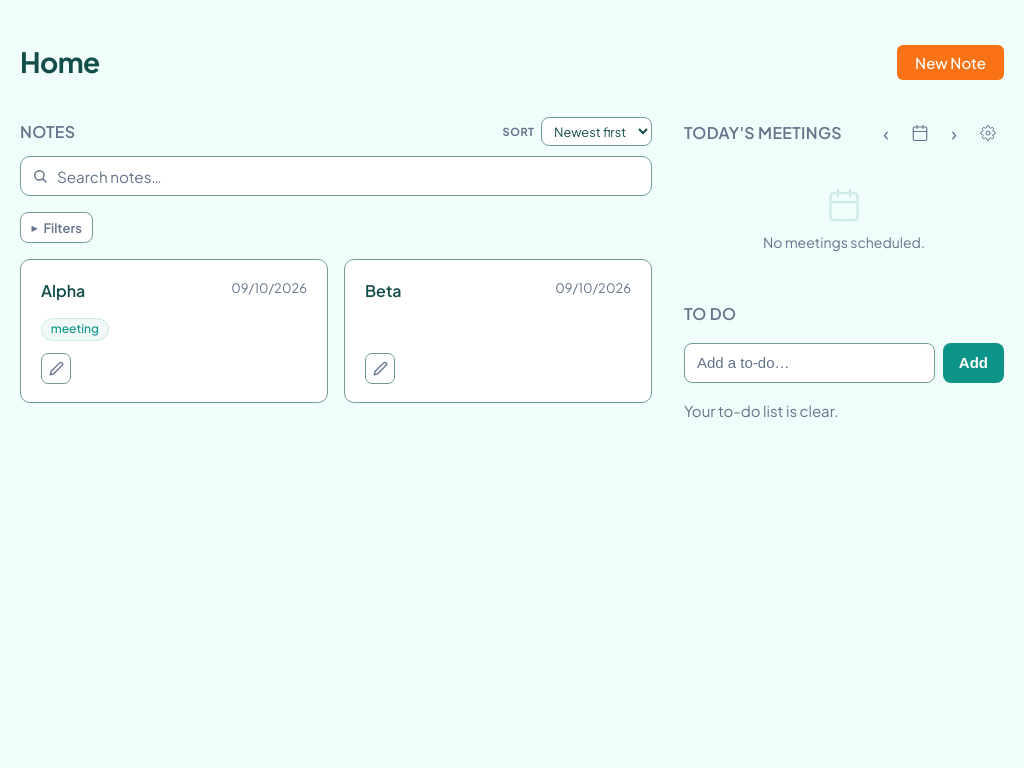
Test: TagFilter — filtering cards via ListView › clear button restores all cards after filtering
The image size is (1024, 768).
// Home filters default to collapsed (CHANGE-6) — expand first.
Step 1. Click the button "▸ Filters" → click(57, 228), box [20,212,93,243]
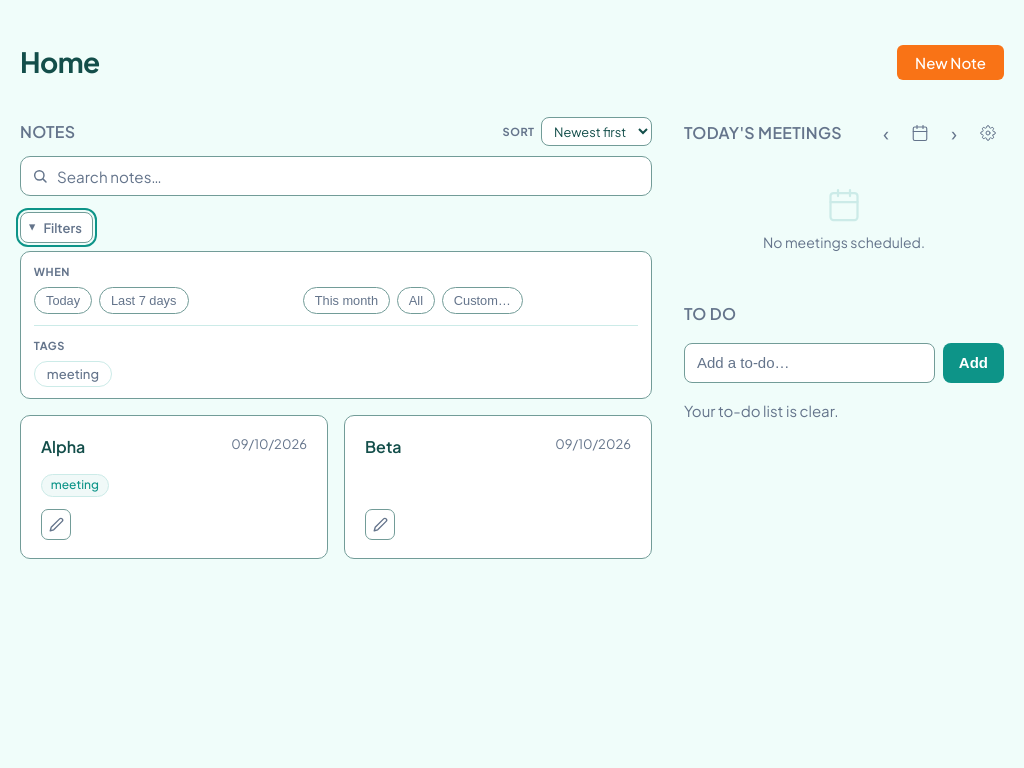
Step 2. Click the button with test id "tag-filter-pill-meeting" → click(73, 374), box [34,361,112,387]
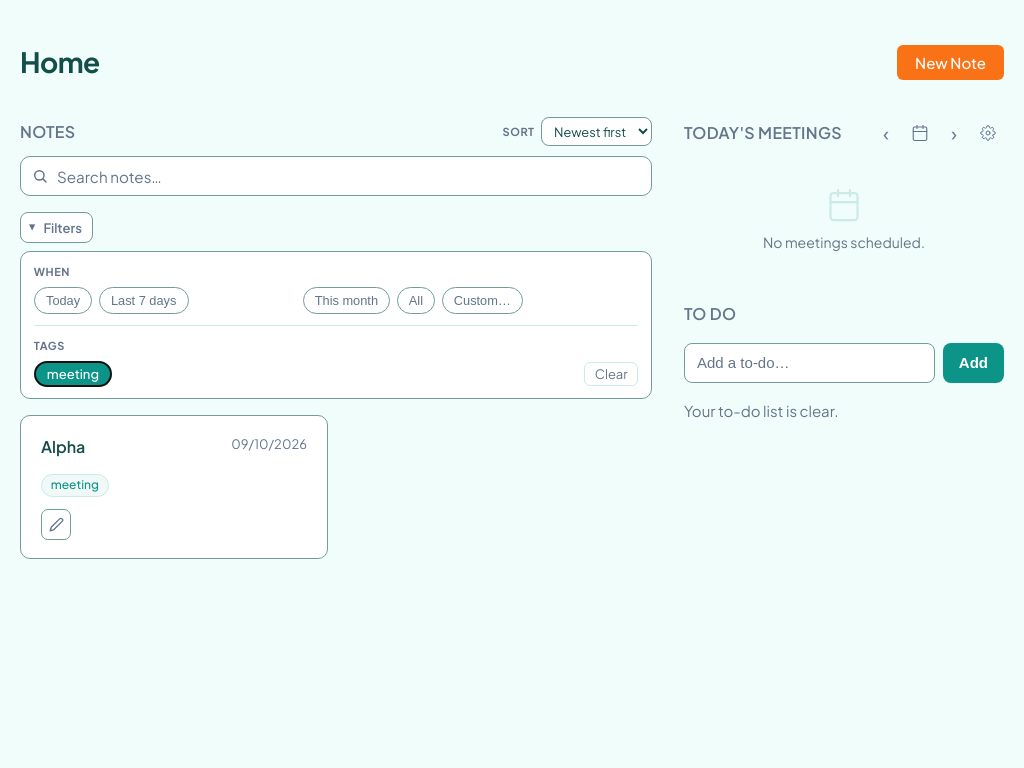
Result: the heading "Beta" is gone
Step 3. Click the button with test id "tag-filter-clear" → click(611, 374), box [584,362,638,386]
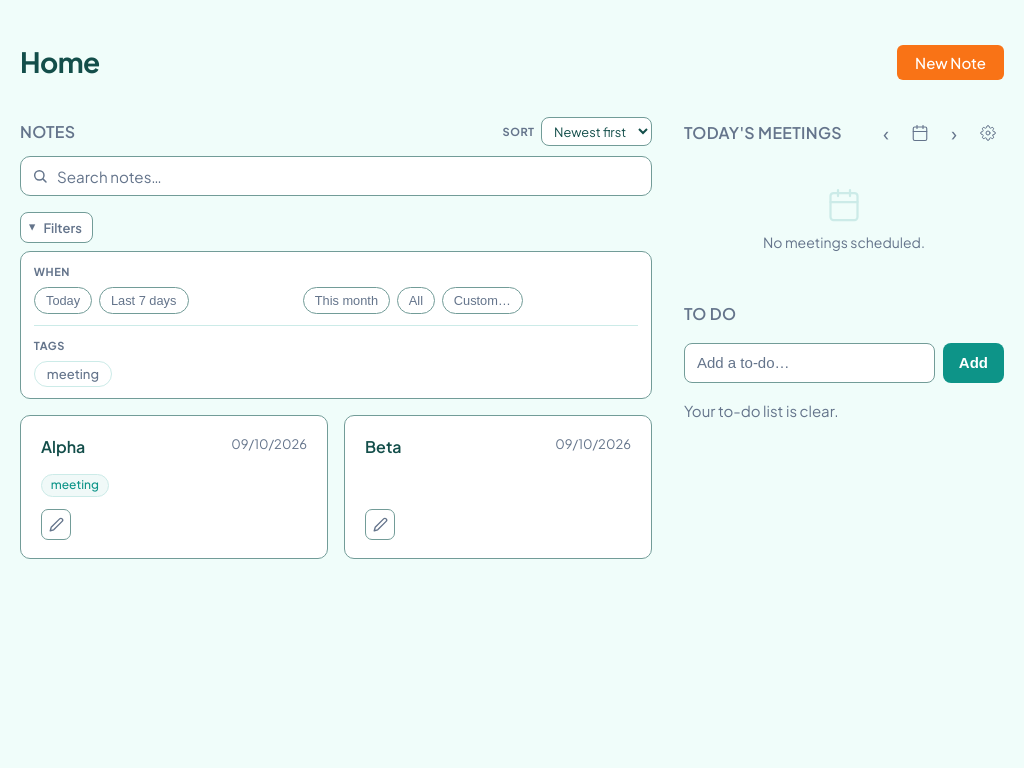
Expected: the heading "Alpha" is shown, [41,436,85,457]
Result: the heading "Beta" is shown at [365,436,402,457]
